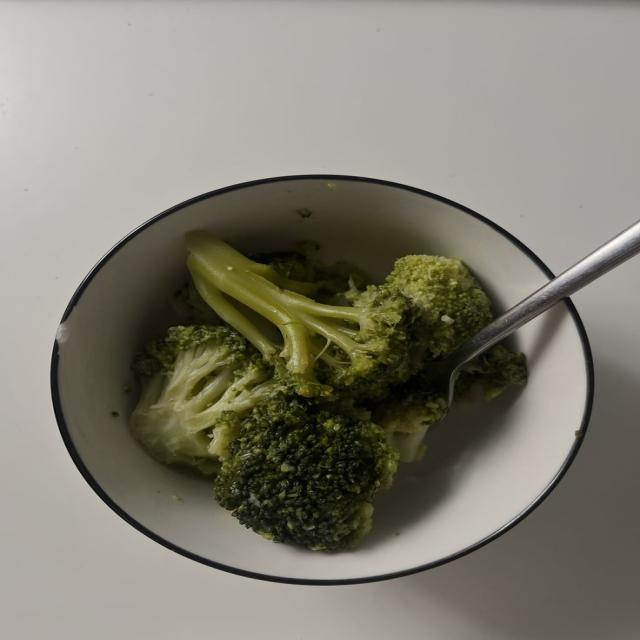broccoli: (131, 231, 492, 549), (187, 231, 416, 397), (214, 394, 398, 549), (131, 326, 278, 473), (387, 256, 492, 358), (247, 243, 367, 305), (373, 364, 448, 461), (374, 380, 448, 462), (456, 345, 527, 400), (171, 280, 220, 324)
